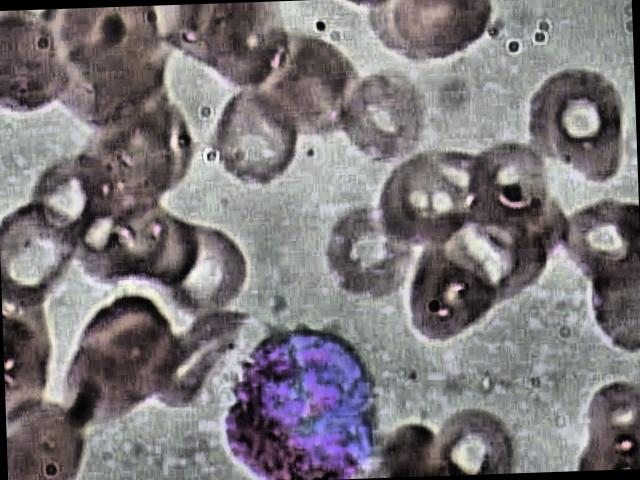RBC: (59, 295, 184, 431), (245, 28, 371, 154), (390, 232, 501, 360), (528, 65, 638, 192), (141, 301, 261, 411), (204, 89, 310, 194), (328, 67, 434, 172), (368, 152, 474, 257), (148, 216, 255, 319), (0, 8, 83, 129), (17, 156, 107, 262), (0, 203, 89, 310), (323, 204, 418, 302), (4, 384, 95, 480), (570, 252, 640, 373), (386, 0, 505, 68), (466, 142, 551, 232), (556, 197, 640, 287), (426, 405, 529, 475), (374, 416, 456, 478), (134, 217, 200, 291)
WBC: (213, 317, 393, 480)
